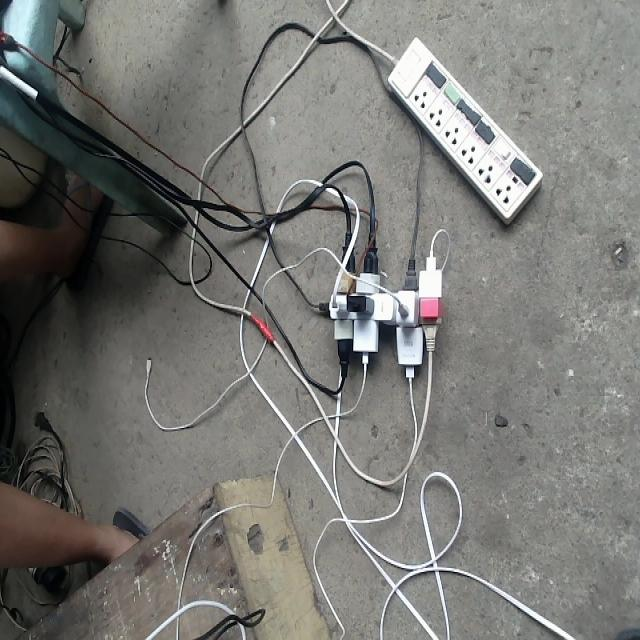-: (318, 253, 442, 383)
